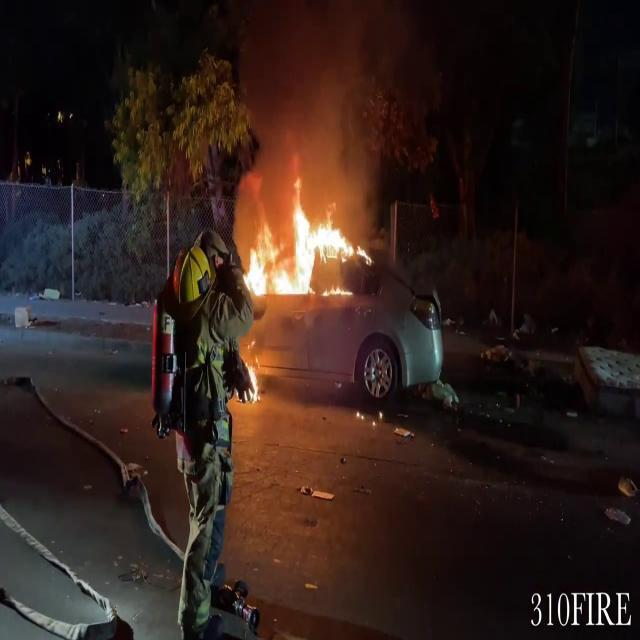Fire: (241, 178, 366, 300), (241, 353, 263, 407)
Smoke: (228, 0, 400, 194)
